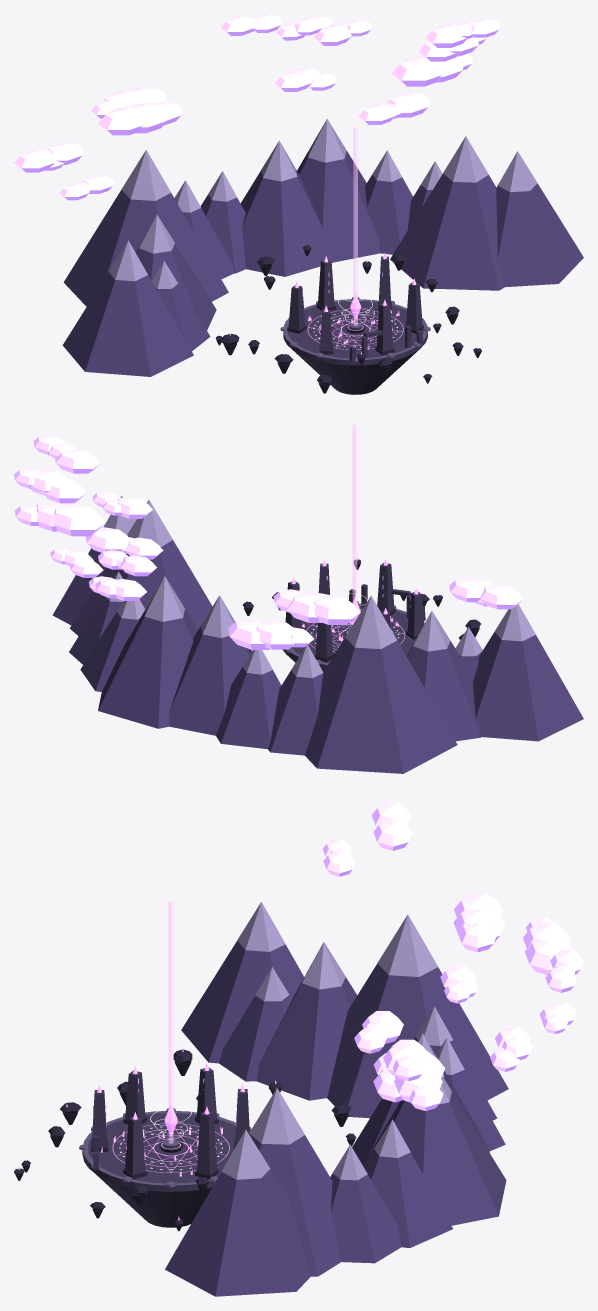
File: circulo-arcano.glb
3 views of the same model, one above another, from view 1: azimuth 30°, elevation 25°; view 2: azimuth 150°, elevation 25°; view 3: azimuth 270°, elevation 25° (orthographic). The views are drawn at different scales.
Parts seen in each view (by area): view 1: Montanhas, Nuvens, Ilha, Monolitos, Flutuantes, Cristal, Circulo, Ruinas; view 2: Montanhas, Nuvens, Monolitos, Ilha, Cristal, Flutuantes, Ruinas; view 3: Montanhas, Nuvens, Ilha, Monolitos, Flutuantes, Cristal, Circulo.
Boxes of the visible parts, box(x1,y1,x2,y2) form: Montanhas: box(62, 119, 583, 376); Nuvens: box(14, 14, 499, 200); Ilha: box(280, 297, 430, 394); Monolitos: box(287, 253, 423, 355); Flutuantes: box(216, 245, 481, 393); Cristal: box(350, 126, 360, 325); Circulo: box(307, 309, 403, 349); Ruinas: box(349, 325, 423, 361); Montanhas: box(52, 495, 583, 773); Nuvens: box(14, 435, 522, 649); Monolitos: box(285, 559, 424, 661); Ilha: box(282, 601, 424, 671); Cristal: box(352, 423, 360, 623); Flutuantes: box(243, 557, 480, 639); Ruinas: box(348, 584, 425, 620); Montanhas: box(165, 902, 508, 1296); Nuvens: box(322, 802, 583, 1110); Ilha: box(79, 1108, 251, 1227); Monolitos: box(91, 1063, 249, 1179); Flutuantes: box(14, 1049, 356, 1231); Cristal: box(164, 900, 177, 1143); Circulo: box(112, 1123, 229, 1172).
Bounding box in the file's own units: 102 × 51 × 83.55.
